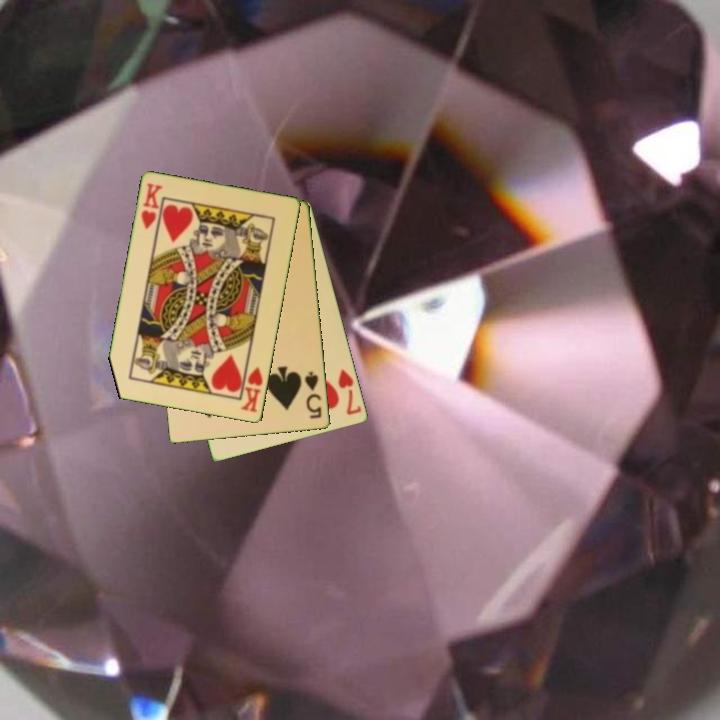5s: (301, 368, 325, 422)
7h: (335, 365, 365, 418)
Kh: (237, 358, 266, 416), (138, 180, 166, 233)
